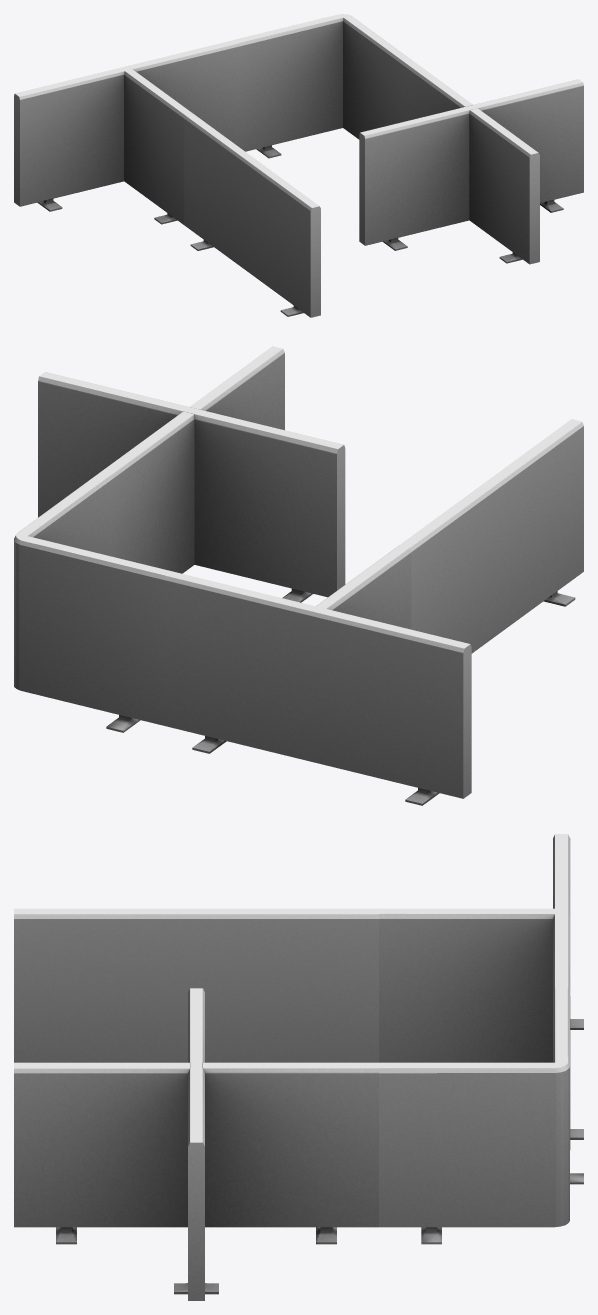
The model's file is WallsFBX.fbx.
3 views of the same model, one above another, from view 1: azimuth 30°, elevation 25°; view 2: azimuth 150°, elevation 25°; view 3: azimuth 270°, elevation 25° (orthographic). The views are drawn at different scales.
Visible parts, largest first — view 1: Wall_C, Wall_B, Wall_D, Wall_A; view 2: Wall_B, Wall_C, Wall_D, Wall_A; view 3: Wall_C, Wall_A, Wall_D, Wall_B.
Part boxes in pixels (<box>): Wall_C: <box>359,60,583,264</box>; Wall_B: <box>14,40,238,224</box>; Wall_D: <box>234,14,411,158</box>; Wall_A: <box>184,113,320,317</box>; Wall_B: <box>164,545,471,805</box>; Wall_C: <box>38,346,345,602</box>; Wall_D: <box>14,472,171,732</box>; Wall_A: <box>399,419,583,653</box>; Wall_C: <box>14,988,378,1300</box>; Wall_A: <box>14,908,378,1062</box>; Wall_D: <box>379,988,583,1244</box>; Wall_B: <box>379,834,583,1139</box>.
Size of what is drawn, in the model's own units: 4 by 1.02 by 3.12.
